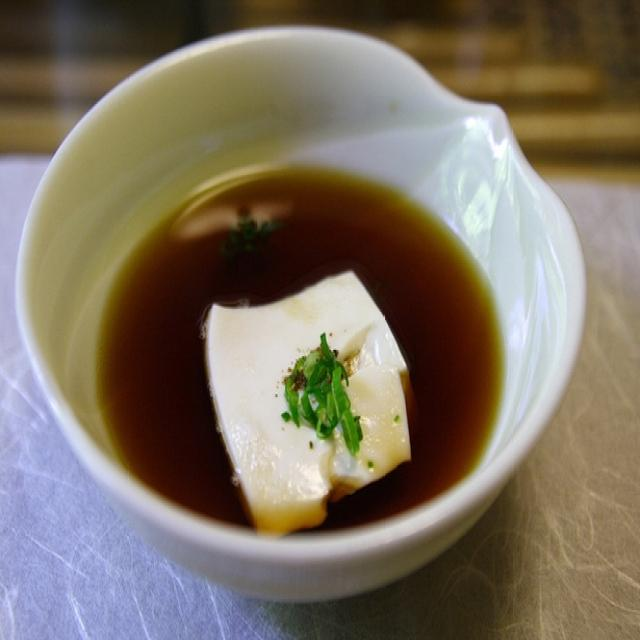豆腐料理: (14, 28, 595, 594)
